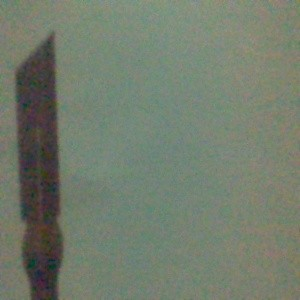cutter: (12, 29, 65, 300)
